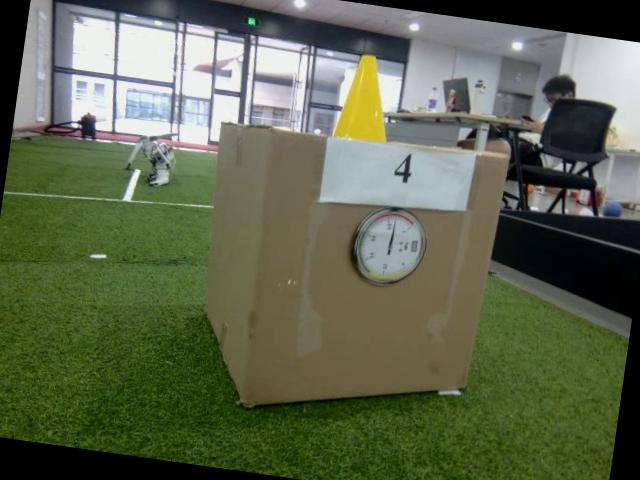4: (391, 149, 418, 185)
Dashboard: (346, 201, 431, 292)
ssi: (410, 238, 420, 253)
yellow_barrel: (330, 50, 399, 147)
